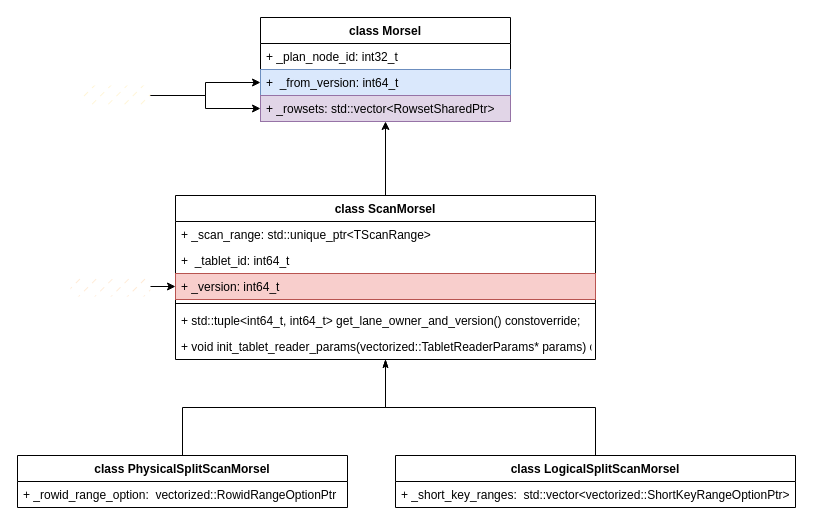
Some shapes in this 813 by 528 pixel diagram are drawn without their labels. Here are the shapes that lost their labels. From the top down, the centre of each, then its label:
At [115,95]: "query-cache".
At [110,286]: "update cache".
